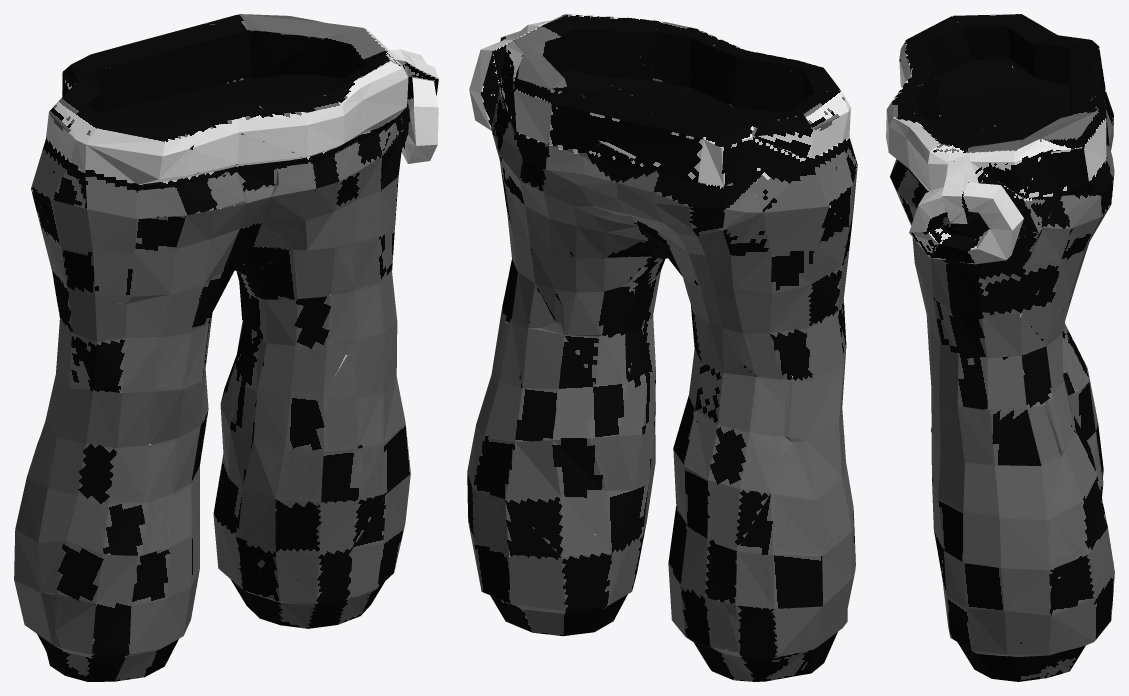
3 renders of one model, left to right at view 1: azimuth 30°, elevation 25°; view 2: azimuth 150°, elevation 25°; view 3: azimuth 270°, elevation 25°, orthographic. The views are drawn at different scales.
Visible parts, largest first — view 1: OBJ024; view 2: OBJ024; view 3: OBJ024.
Part boxes in pixels (bbox=[...]): OBJ024: bbox=[14, 14, 438, 681]; OBJ024: bbox=[467, 14, 857, 681]; OBJ024: bbox=[886, 14, 1114, 681].
Bounding box in the file's own units: 0.242 × 0.3438 × 0.1339.
1 material, 1 textured.
